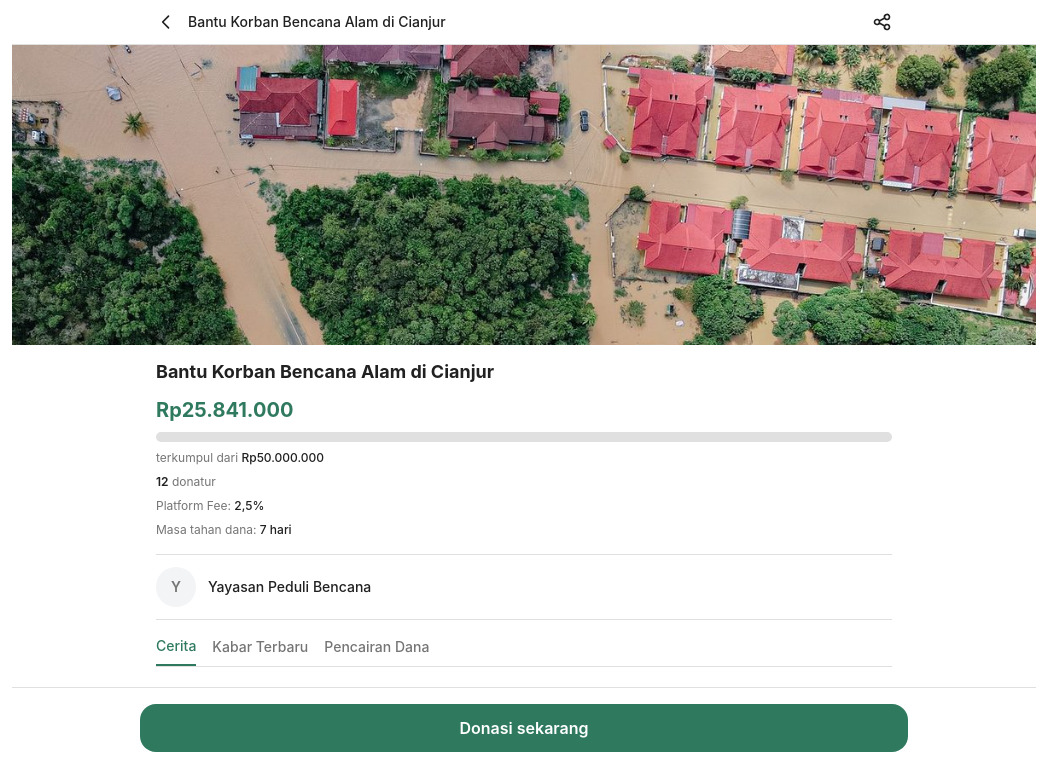
CampaignDetailView -- Pencairan Dana tab (ticket 22) › switches to the Pencairan Dana tab, fetches disbursements, and shows a Usage Report on its Payout
Click the button "Pencairan Dana" at (377, 650), box [324,636,429,666]
(page scrolled)
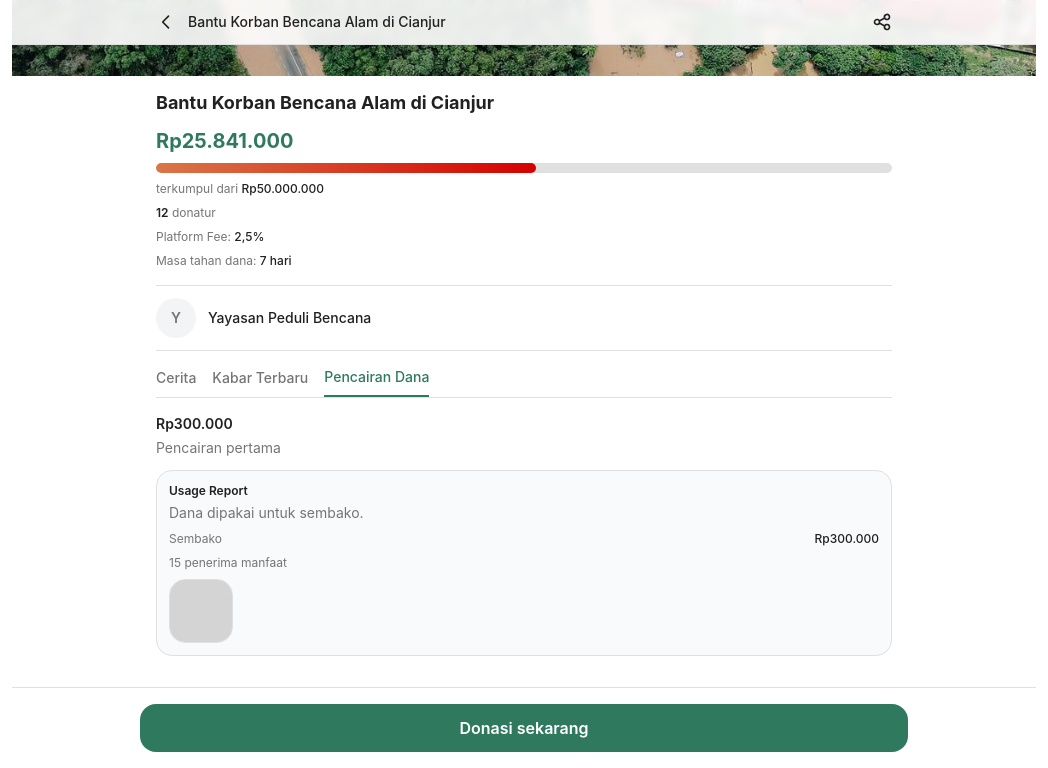
Result: the text "Dana dipakai untuk sembako." is shown at [169,504,364,520]
Result: the text "15 penerima manfaat" is shown at [169,554,287,570]
